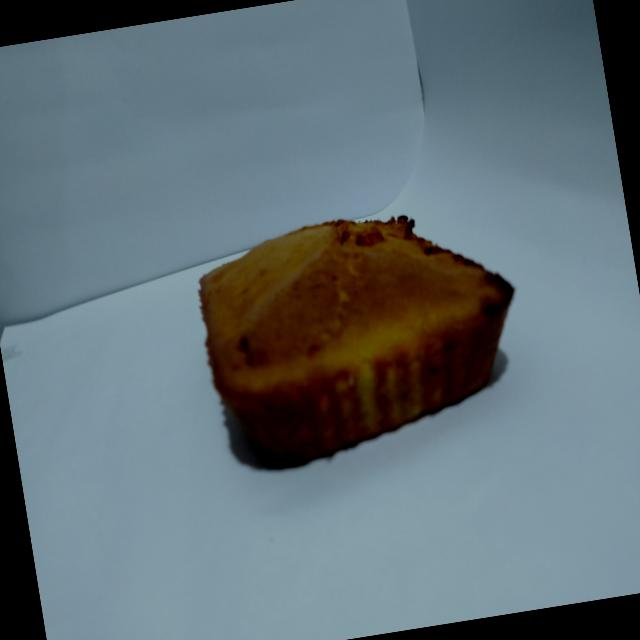Sopa: (174, 178, 546, 488)
